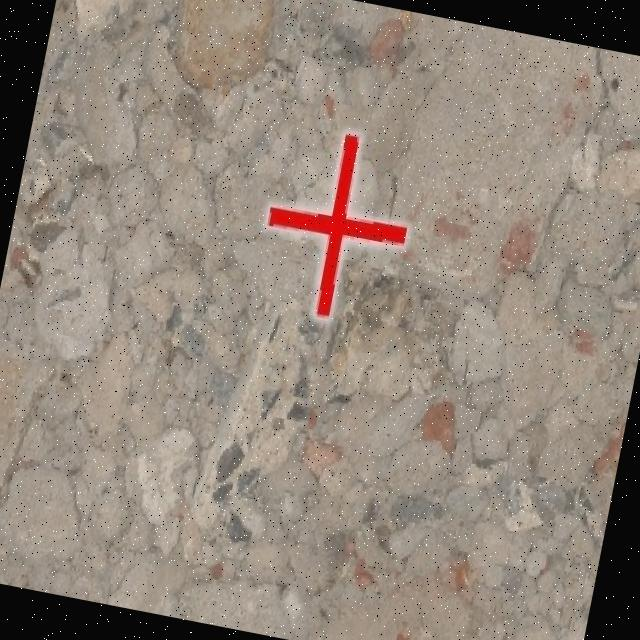x_marker: (251, 122, 422, 329)
